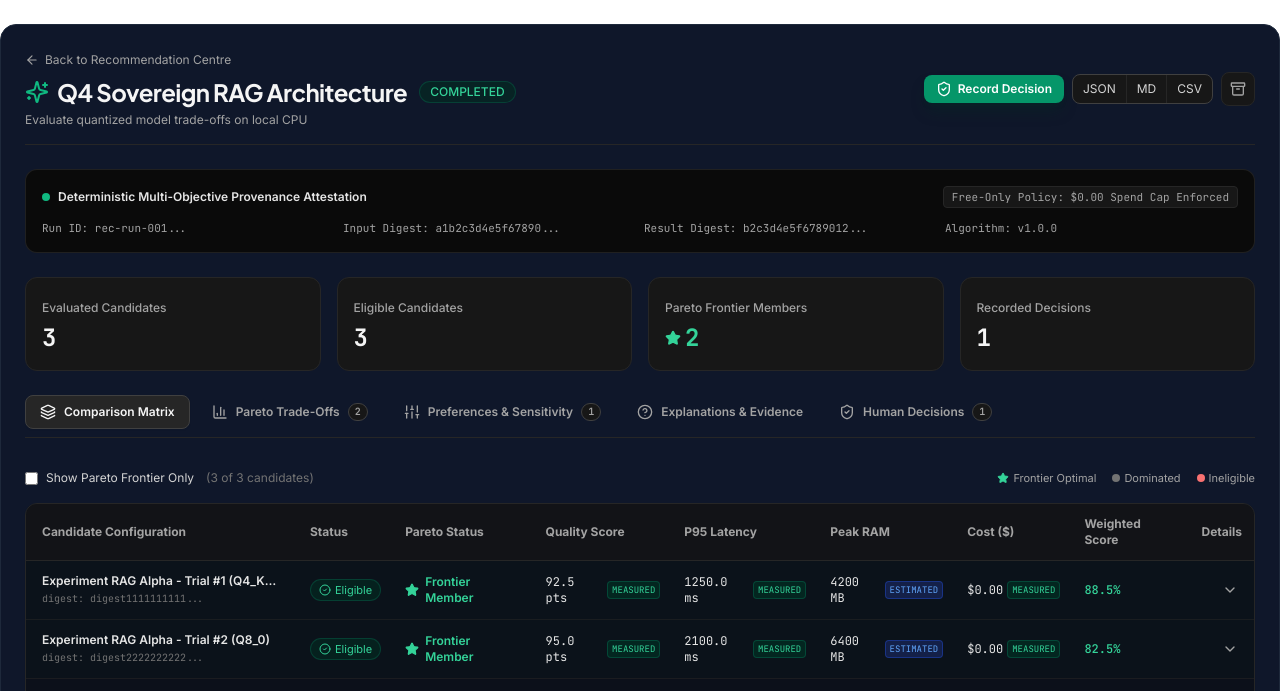
Scenario: Recommendation Centre Frontend › switches to Pareto Trade-Offs tab and renders chart and dominance list
Expected: the heading "Q4 Sovereign RAG Architecture" is shown, [25,76,407,108]
// Click Pareto Trade-Offs Tab
Click the button "Pareto Trade-Offs 2".
click(290, 412)  # box [198,395,382,429]
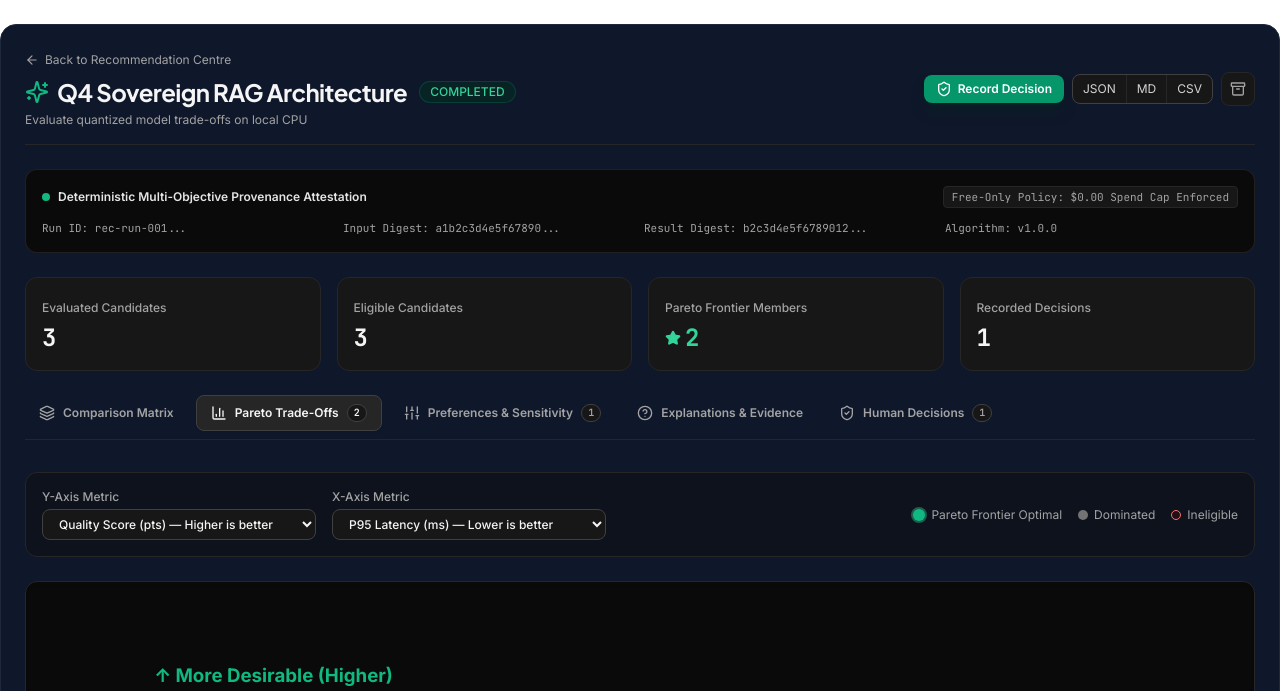
Now the text "Y-Axis Metric" is shown, box [42,489,119,504]
Now the text "X-Axis Metric" is shown, box [332,489,410,504]
